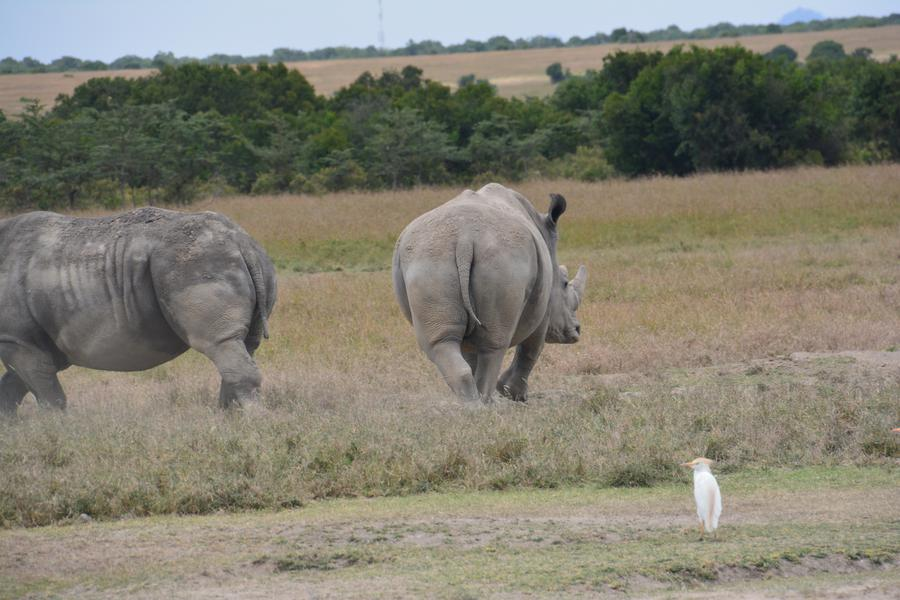rhino: (27, 200, 279, 394), (383, 165, 573, 371)
